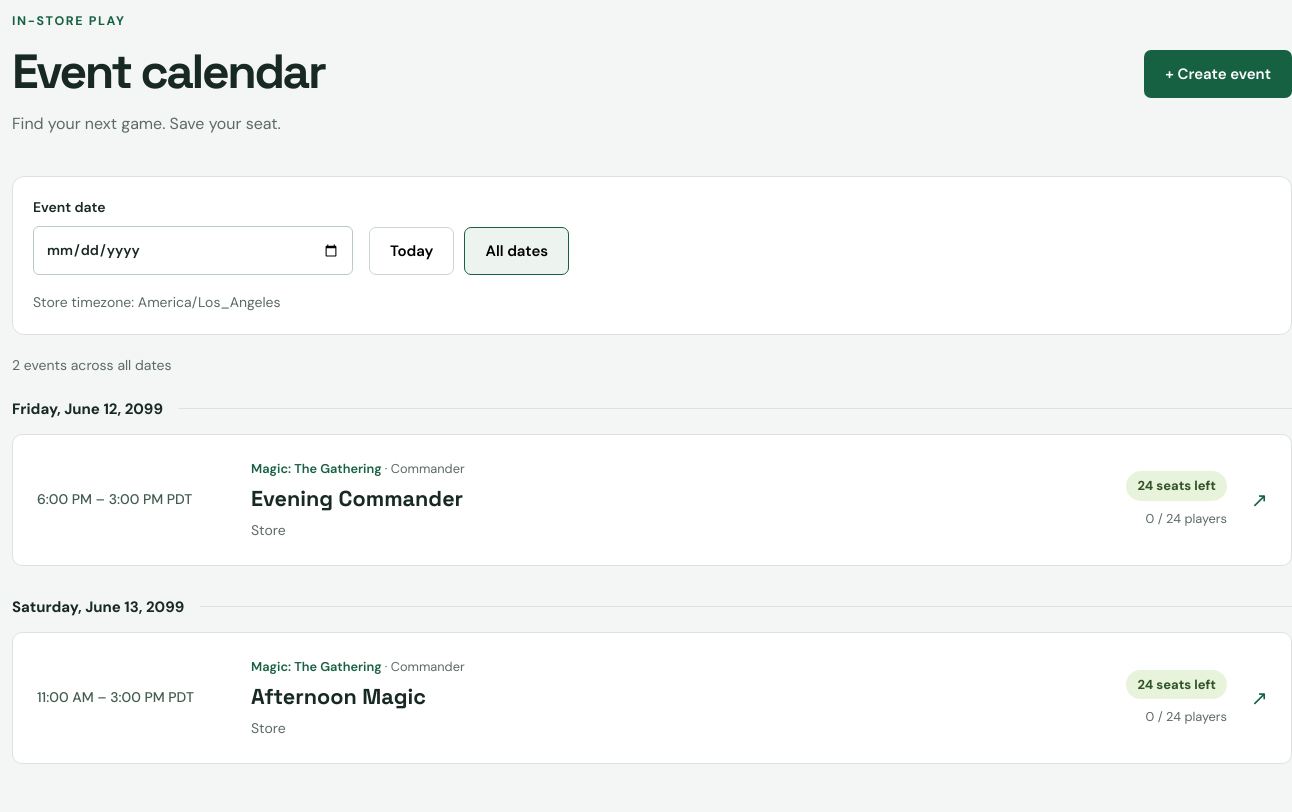
it: organizer selects a store-local date, sees an empty day, and restores all events
The image size is (1292, 812).
Expected: the heading "Evening Commander" is shown, [251,485,463,512]
Expected: the heading "Afternoon Magic" is shown, [251,683,426,710]
Step 1. Type "2099-06-12" into the date field labelled "Event date" → (193, 251), box [33,226,353,275]
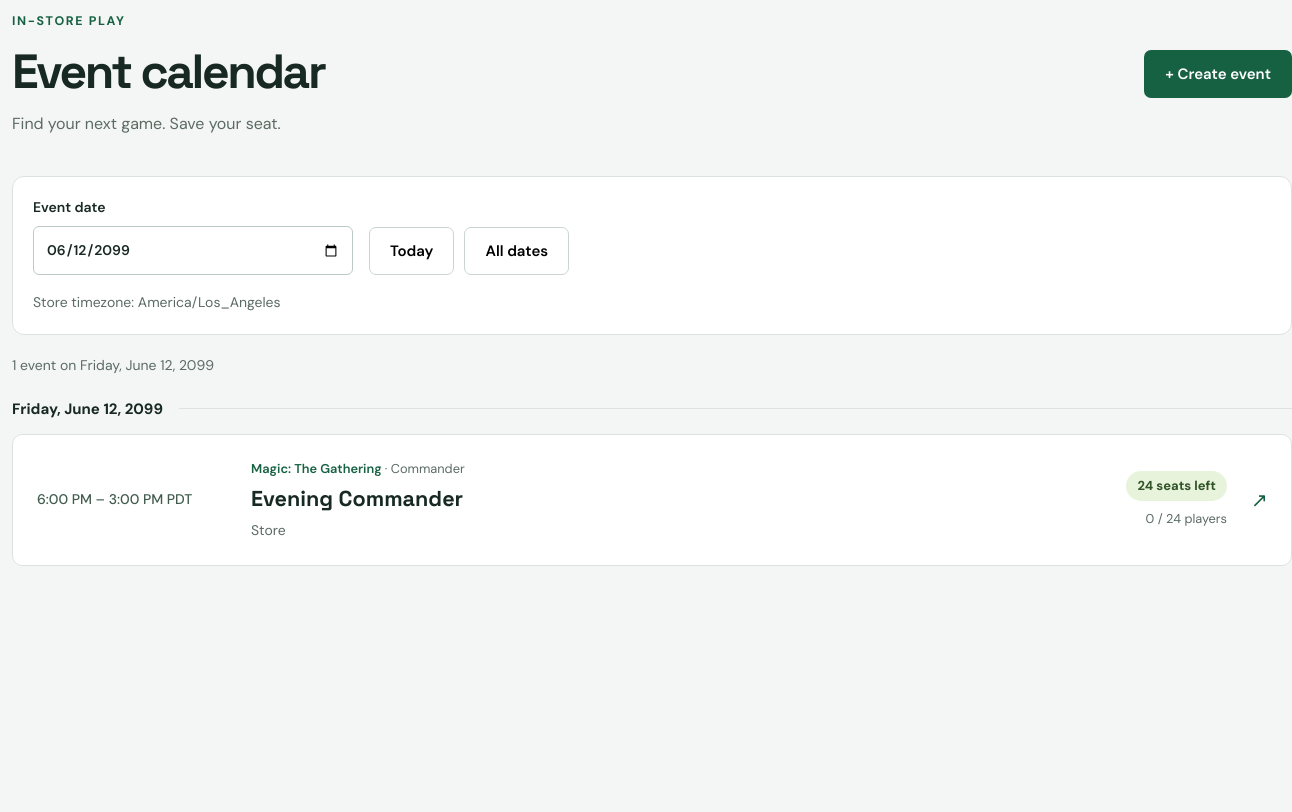
Expected: the heading "Evening Commander" is shown, [251,485,463,512]
Expected: the link "Afternoon Magic" is gone
Step 2. Type "2099-06-14" into the date field labelled "Event date" → (193, 251), box [33,226,353,275]
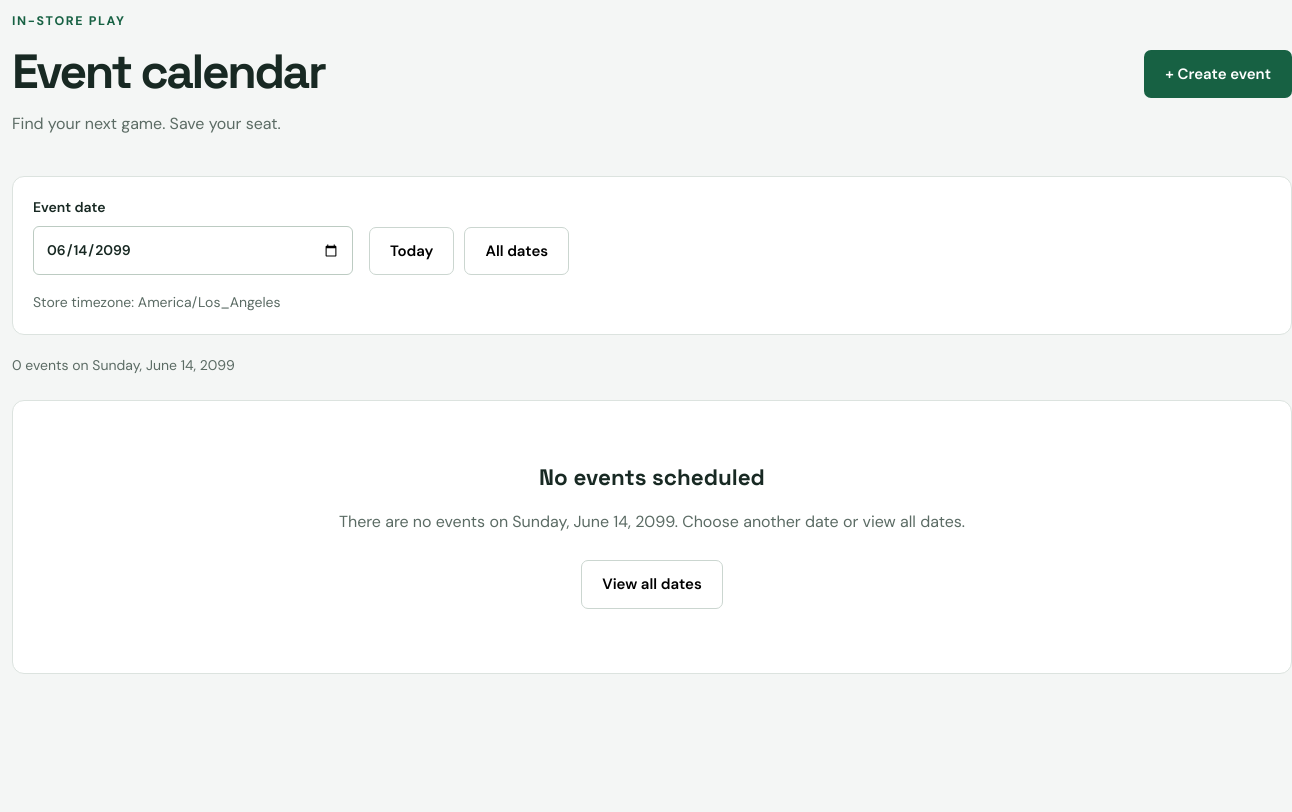
Expected: the heading "No events scheduled" is shown, [539,463,765,492]
Expected: the link "Evening Commander" is gone
Step 3. Click the button "All dates" → (517, 251), box [464,227,569,275]
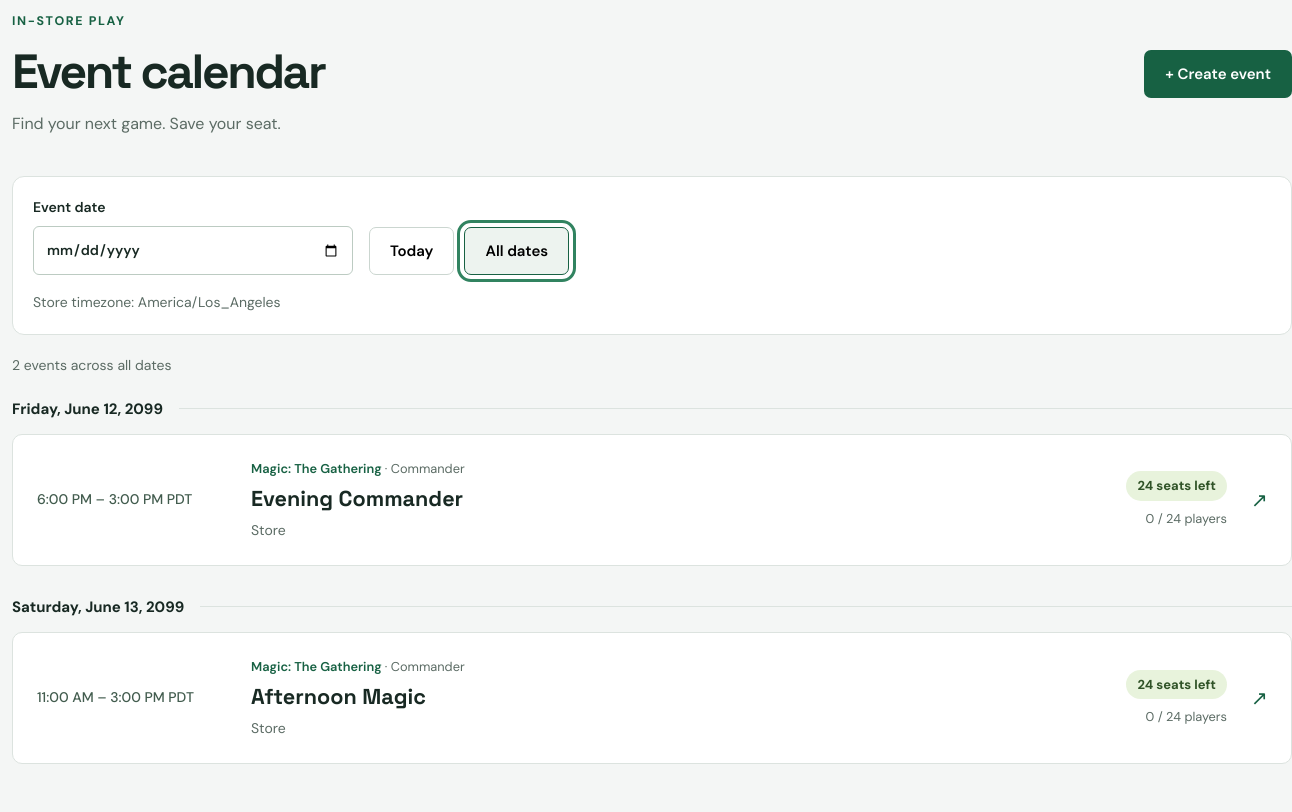
Expected: the heading "Evening Commander" is shown, [251,485,463,512]
Expected: the heading "Afternoon Magic" is shown, [251,683,426,710]
Expected: the date field labelled "Event date" is empty, [33,226,353,275]
